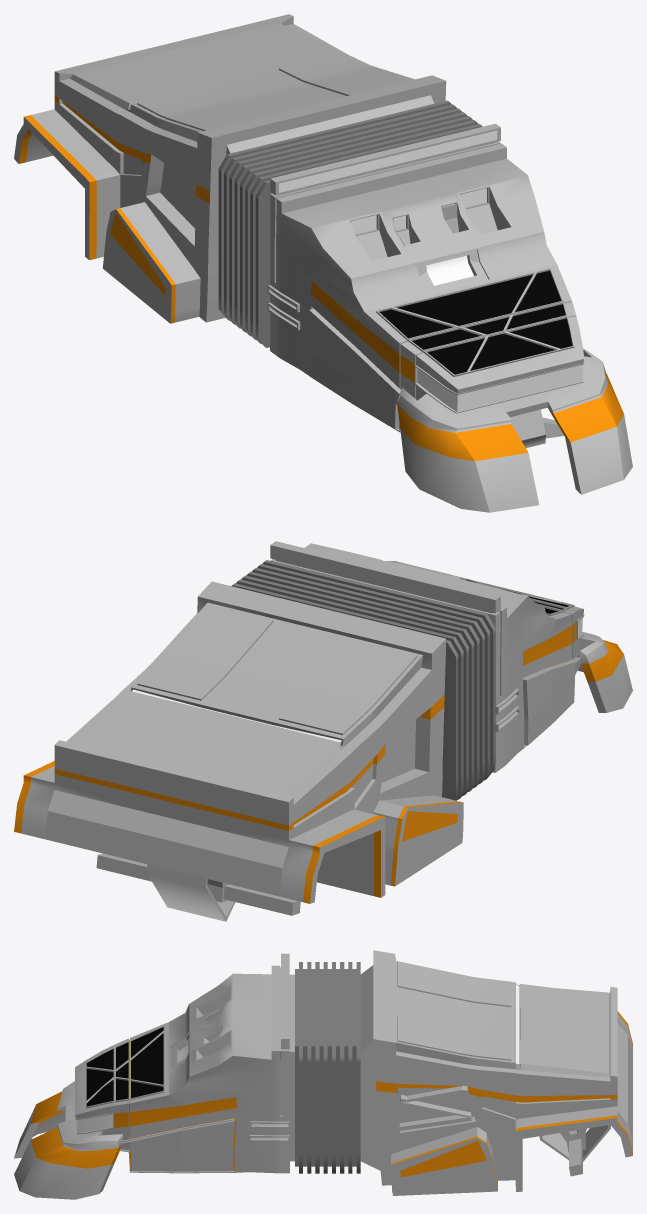
File: Chassi misturado e tudo junto.fbx
3 views of the same model, one above another, from view 1: azimuth 30°, elevation 25°; view 2: azimuth 150°, elevation 25°; view 3: azimuth 270°, elevation 25° (orthographic). The views are drawn at different scales.
Visible parts, largest first — view 1: pCube6; view 2: pCube6; view 3: pCube6.
Boxes of the visible parts, box(x1,y1,x2,y2) form: pCube6: box(14, 14, 632, 512); pCube6: box(14, 541, 632, 921); pCube6: box(14, 950, 632, 1199).
Bounding box in the file's own units: 3.37 × 2.41 × 7.85.
